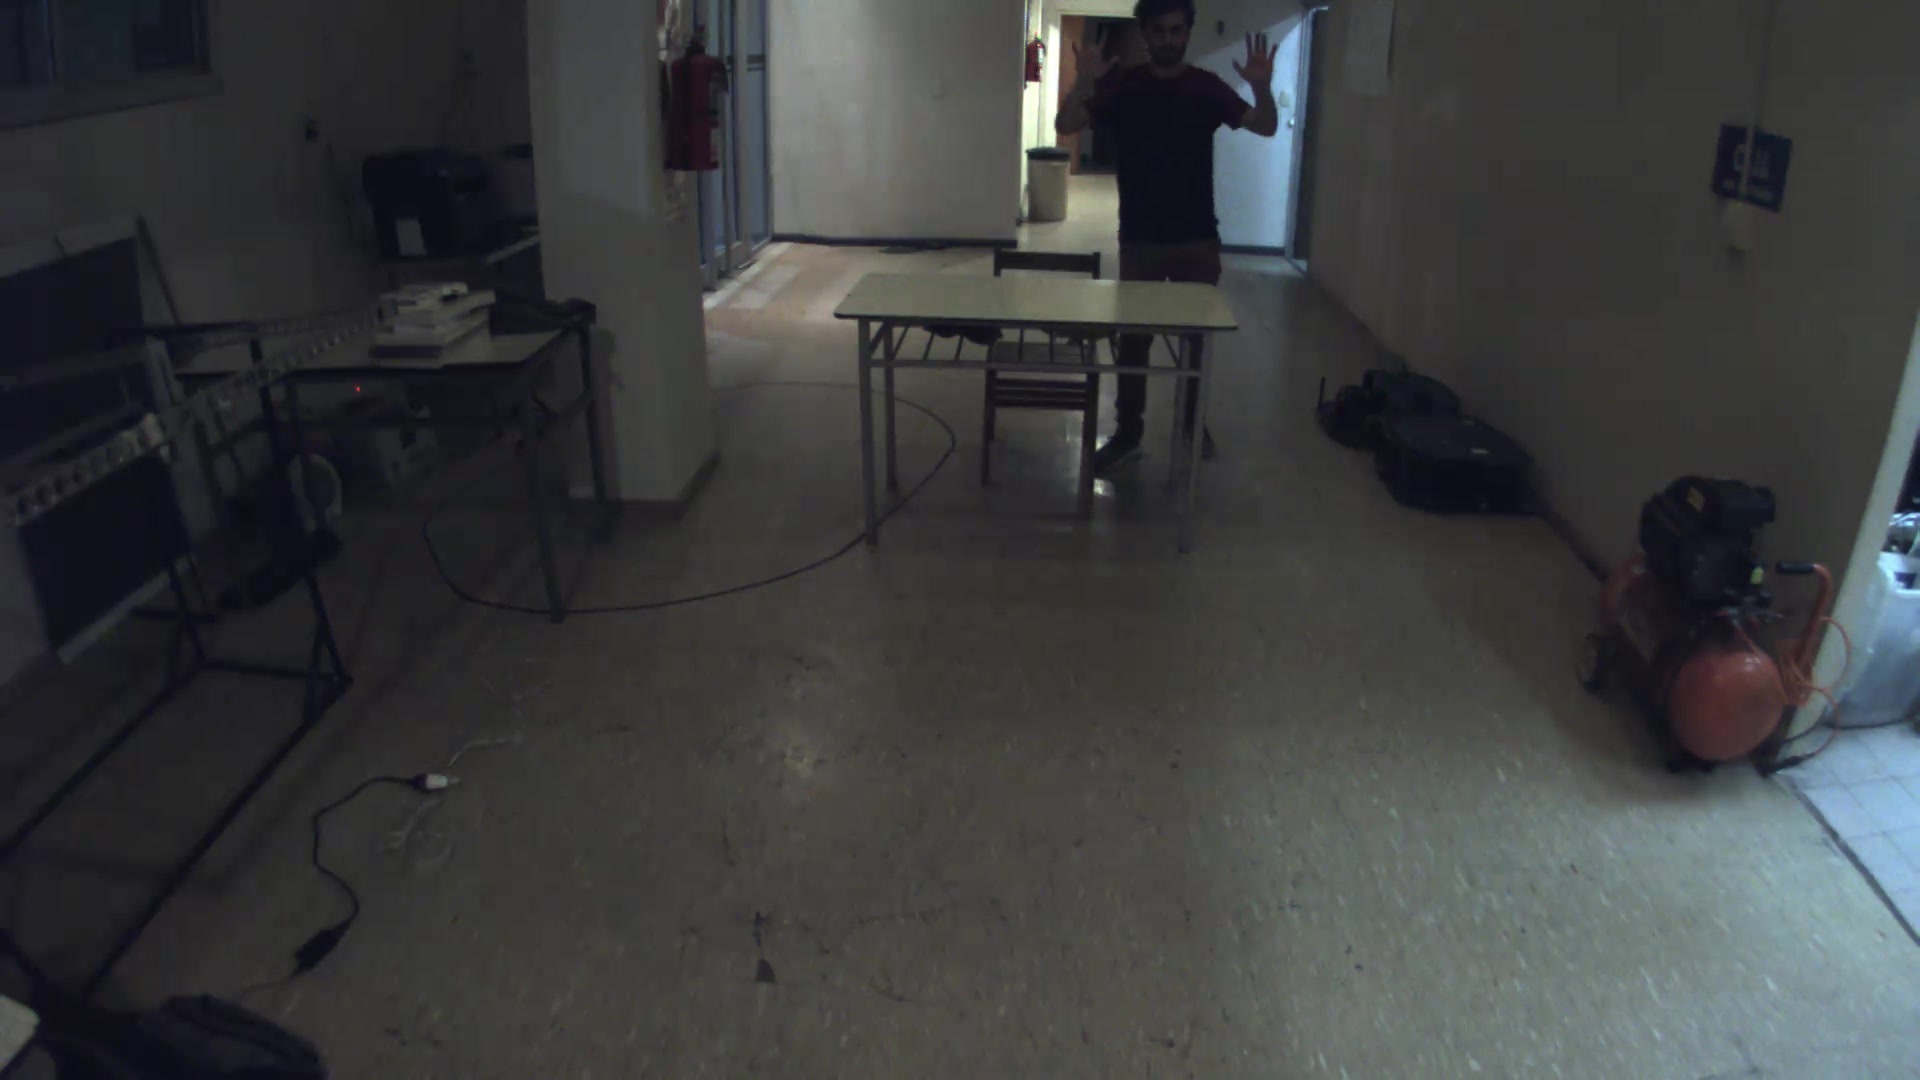hand: (1226, 28, 1299, 94), (1056, 25, 1127, 84)
